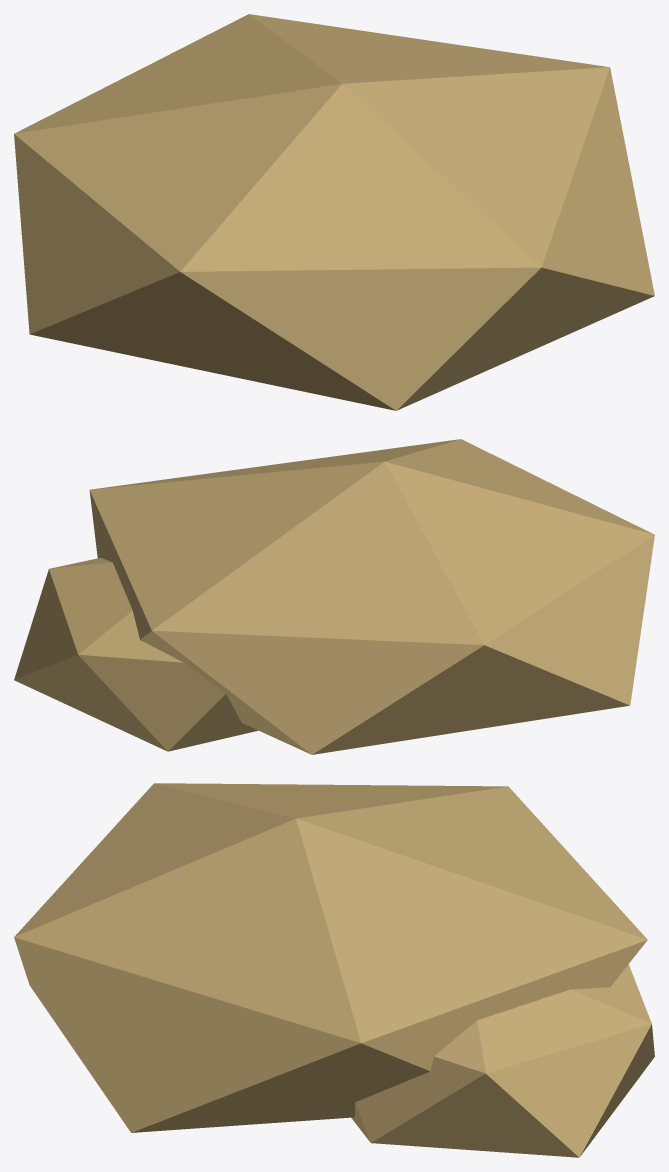
The model's file is h_cargo_net_pile.glb.
The picture shows the model from 3 angles, top to bottom: view 1: azimuth 30°, elevation 25°; view 2: azimuth 150°, elevation 25°; view 3: azimuth 270°, elevation 25°; orthographic projection. The views are drawn at different scales.
Parts seen in each view (by area): view 1: cargo_net_pile; view 2: cargo_net_pile; view 3: cargo_net_pile.
Part boxes in pixels (x1,y1,x2,y2): cargo_net_pile: (14,14,654,410); cargo_net_pile: (14,439,654,754); cargo_net_pile: (14,783,654,1157).
Bounding box in the file's own units: 1.29 × 0.5817 × 1.22.
